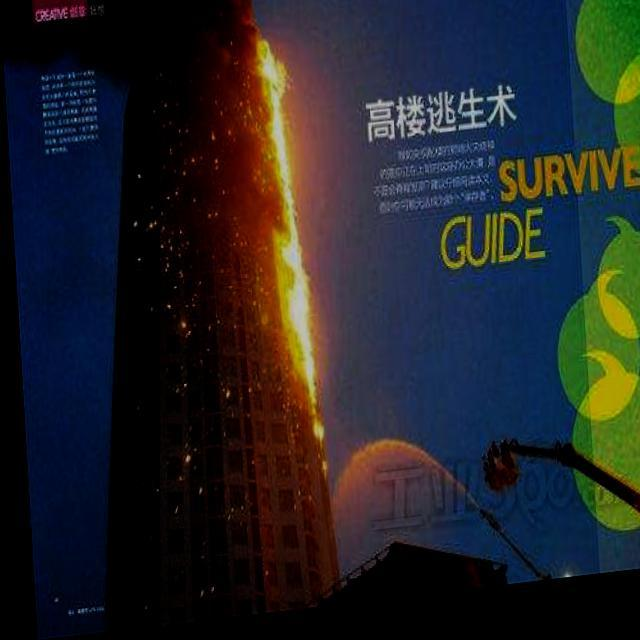Fire: (248, 38, 322, 474)
